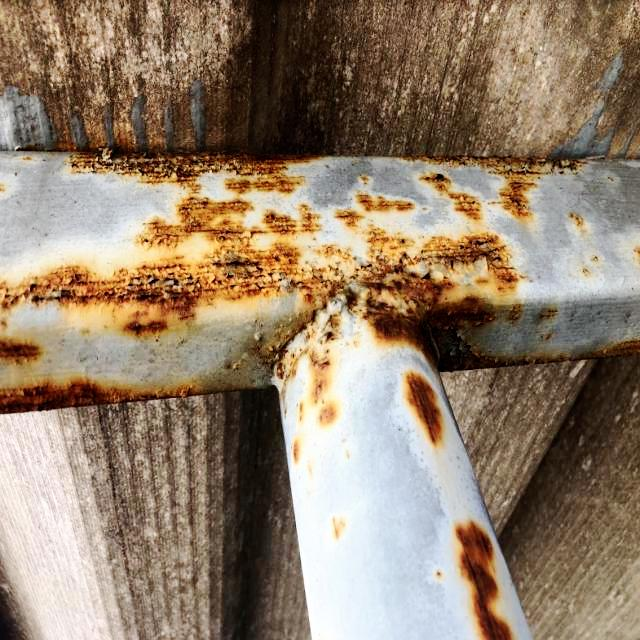Corrosion: (0, 151, 640, 465), (0, 376, 274, 414), (445, 510, 523, 640), (405, 370, 442, 446), (538, 306, 560, 342), (583, 254, 603, 277), (332, 517, 348, 542), (570, 212, 589, 232), (0, 174, 8, 200), (347, 338, 362, 348), (435, 570, 445, 582), (360, 175, 372, 184), (308, 462, 314, 478), (635, 245, 640, 264), (345, 449, 352, 460)
